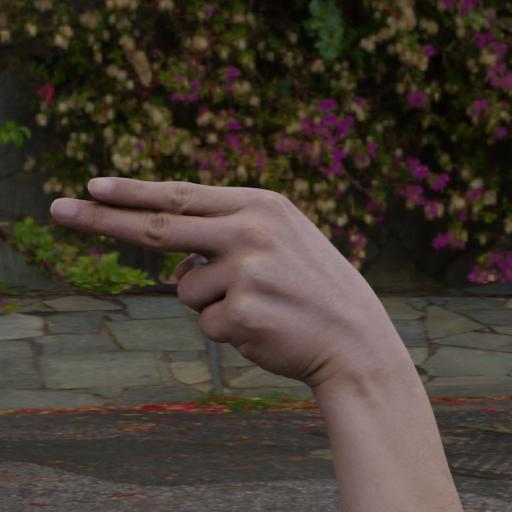H: (42, 157, 416, 382)
